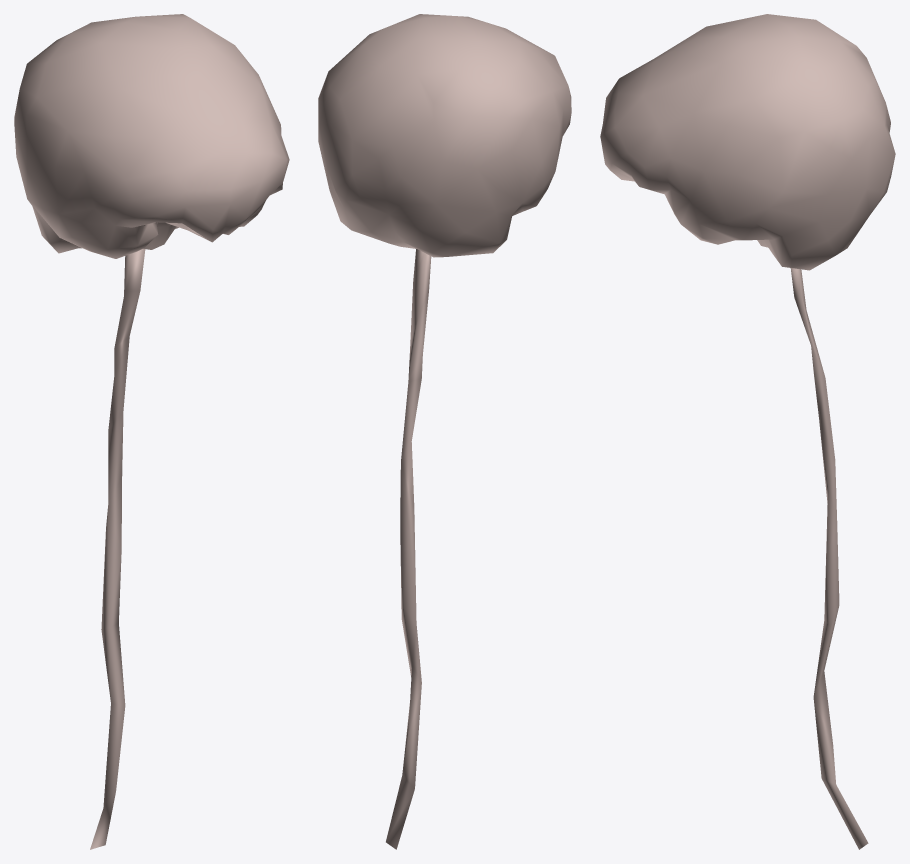
File: pediatric_infant_male.nervous.LOD3.glb
3 views of the same model, side by side, from view 1: azimuth 30°, elevation 25°; view 2: azimuth 150°, elevation 25°; view 3: azimuth 270°, elevation 25° (orthographic). The views are drawn at different scales.
Visible parts, largest first — view 1: PEDIATRIC.INFANT.MALE.NERVOUS.BRAIN, PEDIATRIC.INFANT.MALE.NERVOUS.SPINAL_CORD; view 2: PEDIATRIC.INFANT.MALE.NERVOUS.BRAIN, PEDIATRIC.INFANT.MALE.NERVOUS.SPINAL_CORD; view 3: PEDIATRIC.INFANT.MALE.NERVOUS.BRAIN, PEDIATRIC.INFANT.MALE.NERVOUS.SPINAL_CORD.
Part boxes in pixels (x1,y1,x2,y2): PEDIATRIC.INFANT.MALE.NERVOUS.BRAIN: [14, 14, 289, 258]; PEDIATRIC.INFANT.MALE.NERVOUS.SPINAL_CORD: [90, 249, 145, 849]; PEDIATRIC.INFANT.MALE.NERVOUS.BRAIN: [318, 14, 571, 257]; PEDIATRIC.INFANT.MALE.NERVOUS.SPINAL_CORD: [386, 249, 431, 849]; PEDIATRIC.INFANT.MALE.NERVOUS.BRAIN: [600, 14, 895, 270]; PEDIATRIC.INFANT.MALE.NERVOUS.SPINAL_CORD: [790, 268, 868, 849].
Bounding box in the file's own units: 0.1233 × 0.4375 × 0.1432.
